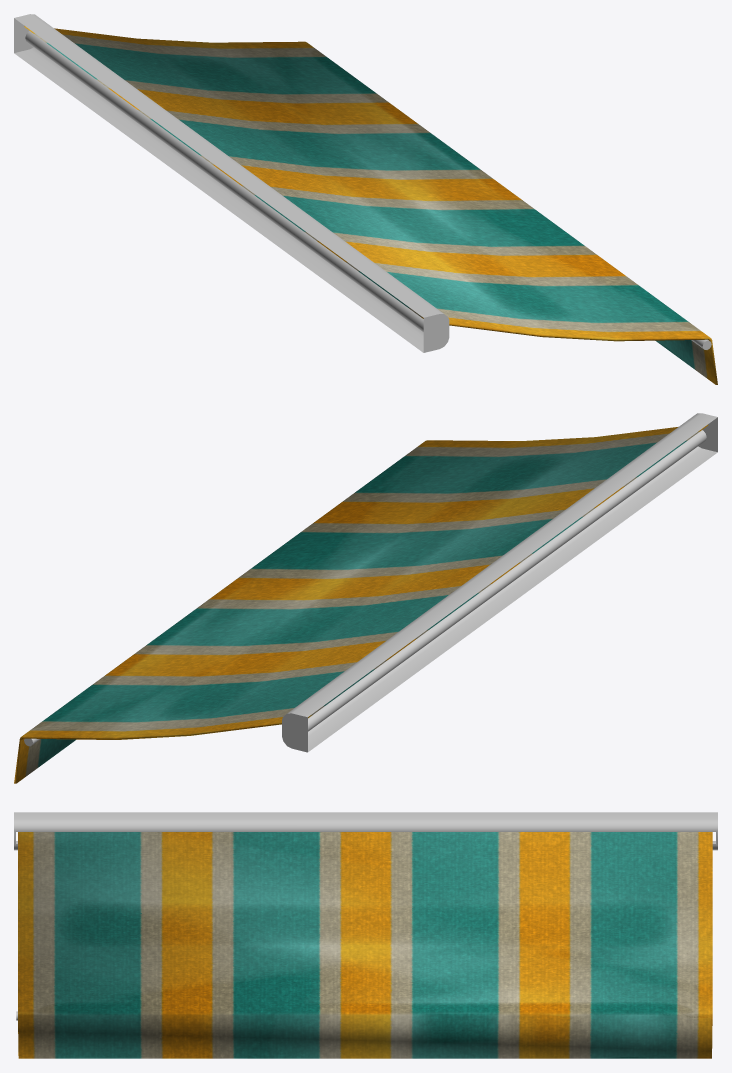
Rendered from Awning.fbx.
3 renders of one model, top to bottom at view 1: azimuth 30°, elevation 25°; view 2: azimuth 150°, elevation 25°; view 3: azimuth 270°, elevation 25°, orthographic. The views are drawn at different scales.
Parts seen in each view (by area): view 1: Awning; view 2: Awning; view 3: Awning.
Part boxes in pixels (x1,y1,x2,y2): Awning: [14, 14, 717, 384]; Awning: [14, 413, 717, 783]; Awning: [14, 812, 717, 1058].
Size of the model in its own units: 202 by 91.8 by 482.
